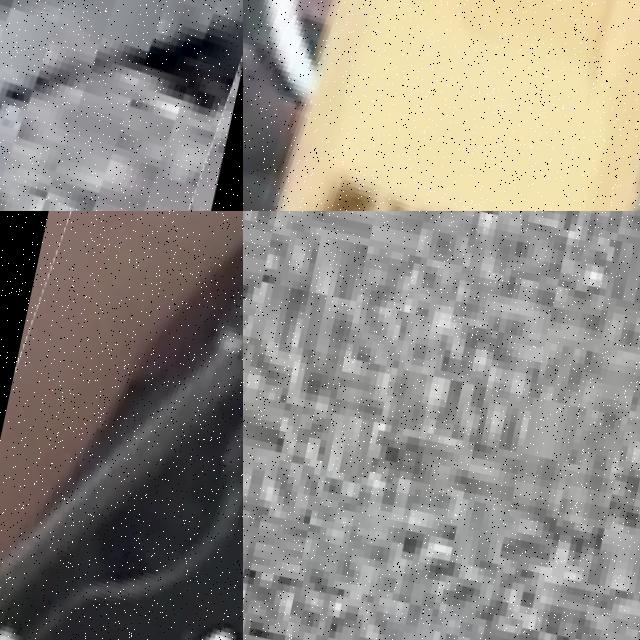drone: (0, 211, 243, 640), (243, 0, 640, 211), (0, 0, 243, 211)
